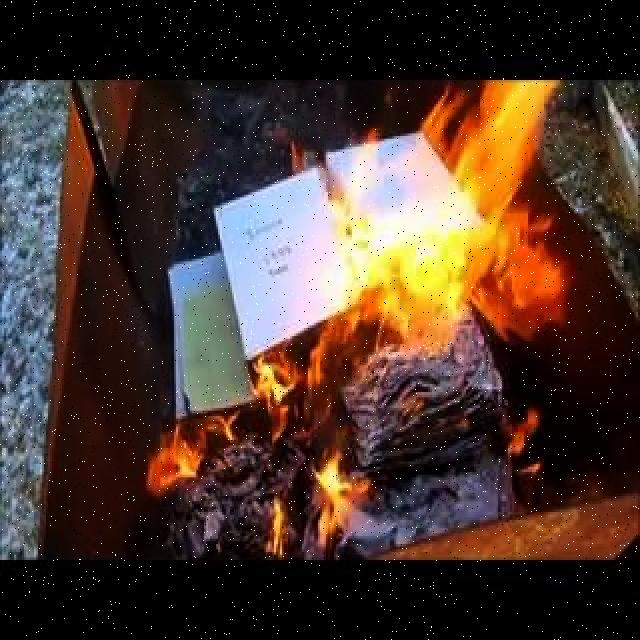fire: (349, 211, 568, 339), (431, 90, 544, 203), (155, 423, 204, 491), (246, 360, 304, 411), (324, 467, 362, 532), (269, 503, 287, 560)
